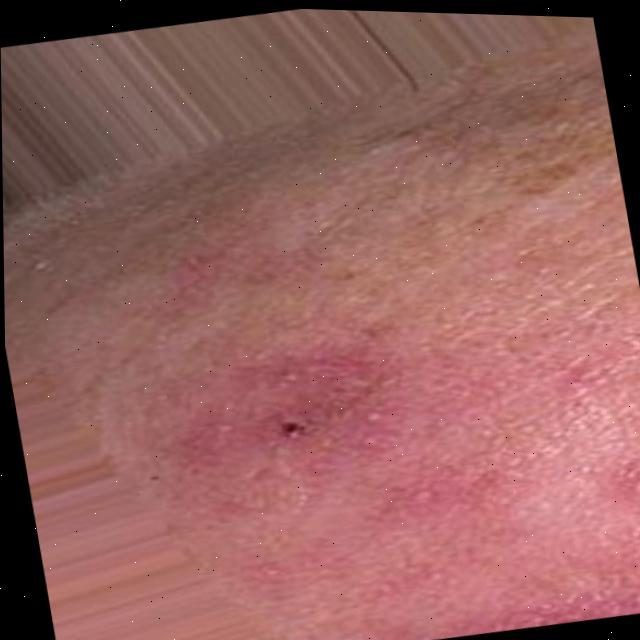Rosacea: (88, 175, 640, 640)
